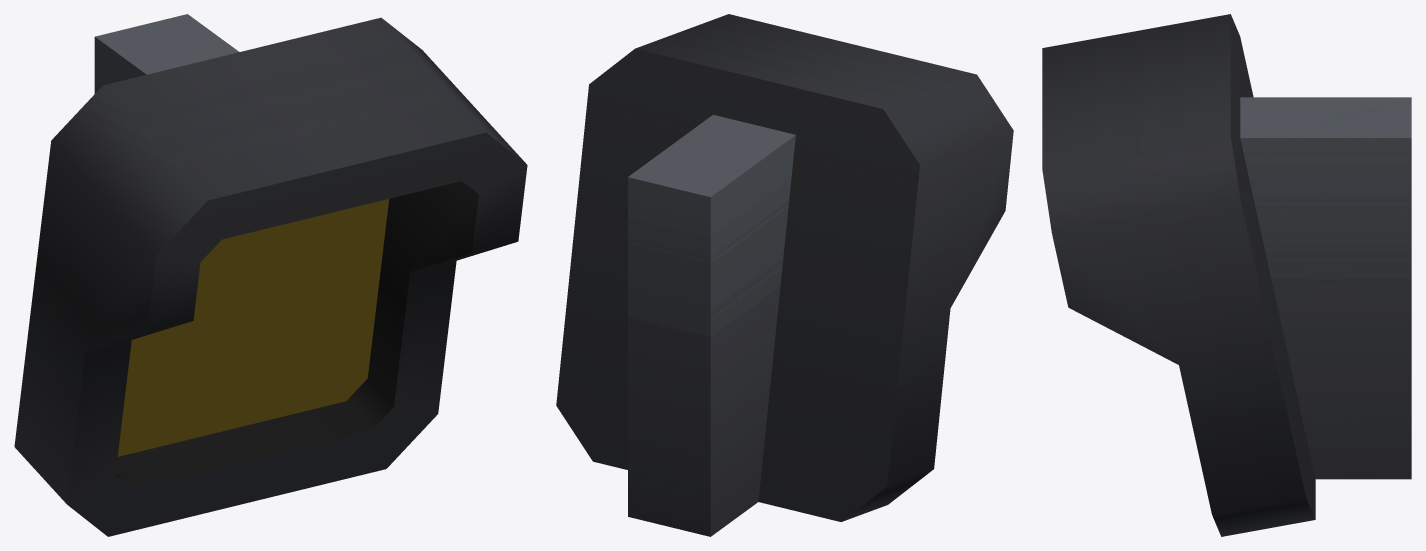
The model's file is s_display_wall.glb.
The picture shows the model from 3 angles, left to right: view 1: azimuth 30°, elevation 25°; view 2: azimuth 150°, elevation 25°; view 3: azimuth 270°, elevation 25°; orthographic projection. The views are drawn at different scales.
Parts seen in each view (by area): view 1: display-wall; view 2: display-wall; view 3: display-wall.
Part boxes in pixels (box(x1,y1,x2,y2)): display-wall: box(14, 14, 527, 536); display-wall: box(556, 14, 1013, 536); display-wall: box(1042, 14, 1411, 536).
Size of the model in its own units: 0.4 by 0.4609 by 0.3844.
Materials: 1 (1 with a texture image).
